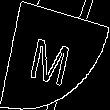M_N: (31, 25, 79, 85)
